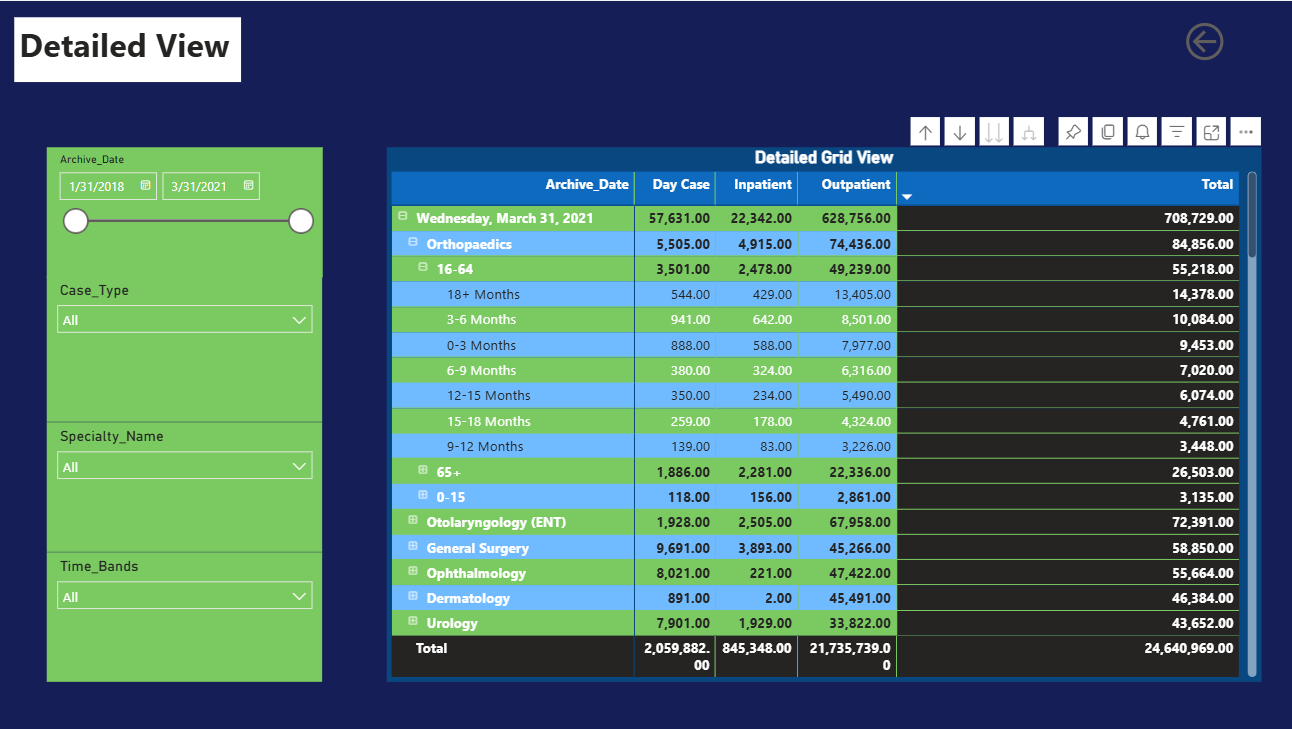

What the dashboard file says about the page in this screenshot:
{"tool":"powerbi","page":{"name":"Detail","canvas":[1280,720],"ordinal":1},"visuals":[{"type":"slicer","fields":{"Values":["All_Data.Archive_Date"]},"box":[48,144,272,128],"z":0},{"type":"slicer","fields":{"Values":["All_Data.Case_Type"]},"box":[48,272,272,144],"z":1000},{"type":"slicer","fields":{"Values":["All_Data.Specialty_Name"]},"box":[48,416,272,128],"z":2000},{"type":"textbox","box":[16,16,224,64],"z":3000},{"type":"slicer","fields":{"Values":["All_Data.Time_Bands"]},"box":[48,544,272,128],"z":4000},{"type":"pivotTable","title":"Detailed Grid View","fields":{"Rows":["All_Data.Archive_Date","All_Data.Specialty_Name","All_Data.Age_Profile","All_Data.Time_Bands"],"Columns":["All_Data.Case_Type"],"Values":["Sum(All_Data.Total)"]},"box":[384,144,864,528],"z":5000},{"type":"actionButton","box":[1168,16,96,48],"z":6000}]}

Visuals, with their boxes in screenshot pixels (x1, y1, x2, y2), scaled from the page's 1280x720 canvas onto the 1292x729 screenshot:
slicer - All_Data.Archive_Date: [48,146,323,275]
slicer - All_Data.Case_Type: [48,275,323,421]
slicer - All_Data.Specialty_Name: [48,421,323,551]
textbox: [16,16,242,81]
slicer - All_Data.Time_Bands: [48,551,323,680]
"Detailed Grid View" pivotTable: [388,146,1260,680]
actionButton: [1179,16,1276,65]
